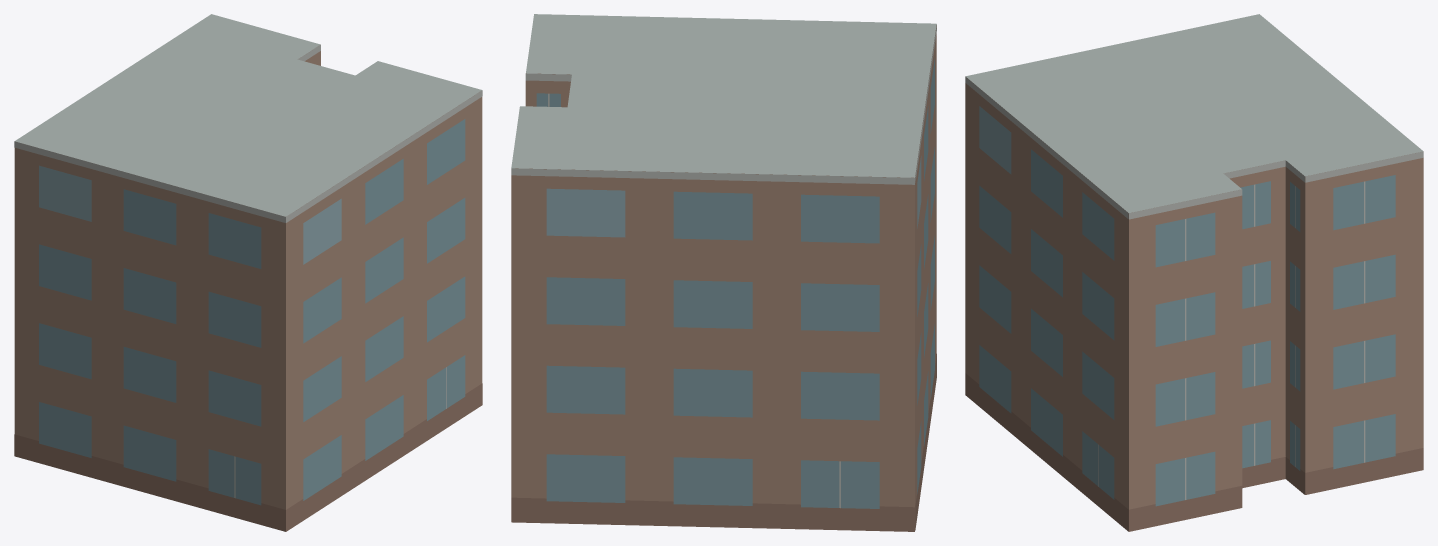
The model's file is survey-upis-32778812.glb.
3 views of the same model, side by side, from view 1: azimuth 30°, elevation 25°; view 2: azimuth 150°, elevation 25°; view 3: azimuth 270°, elevation 25° (orthographic). The views are drawn at different scales.
Visible parts, largest first — view 1: survey-upis-32778812.tmp; view 2: survey-upis-32778812.tmp; view 3: survey-upis-32778812.tmp.
Part boxes in pixels (bbox=[...]): survey-upis-32778812.tmp: bbox=[14, 14, 482, 531]; survey-upis-32778812.tmp: bbox=[511, 14, 936, 531]; survey-upis-32778812.tmp: bbox=[965, 14, 1423, 531].
Size of the model in its own units: 16.36 by 12.2 by 15.91.
